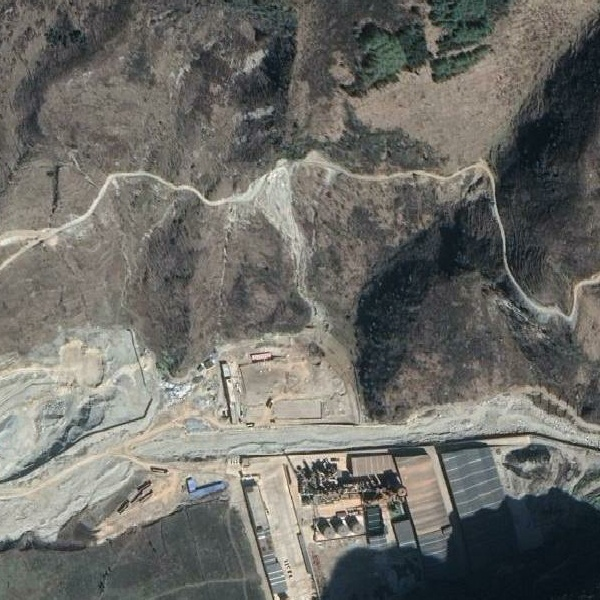slope: (225, 163, 329, 334)
